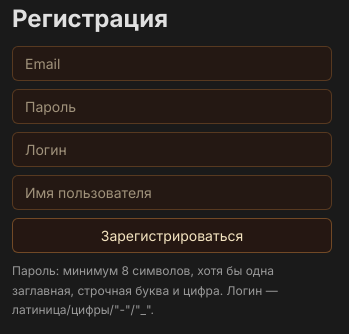
Scenario: RegisterForm › should show loading state during submission
The width and height of the screenshot is (349, 334).
Type "test@example.com" into the field with placeholder "Email" at (172,64), box top-left (12, 46), bottom-right (332, 81)
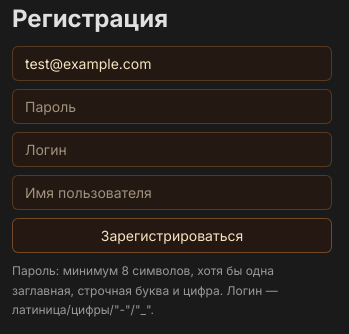
Type "Password123" into the password field with placeholder "Пароль" at (172,107), box top-left (12, 89), bottom-right (332, 124)
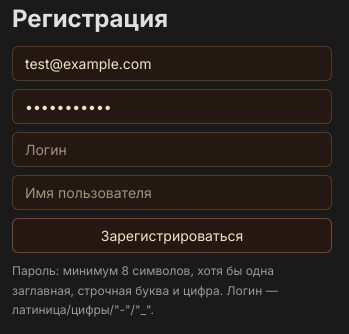
Click the button "Зарегистрироваться" at (172,236), box top-left (12, 218), bottom-right (332, 253)
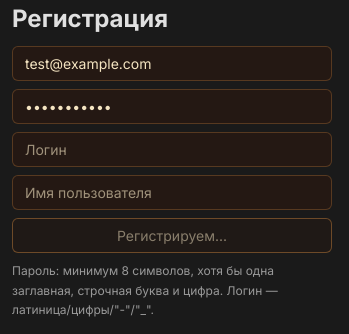
Now the button "Регистрируем..." is disabled, box top-left (12, 218), bottom-right (332, 253)
